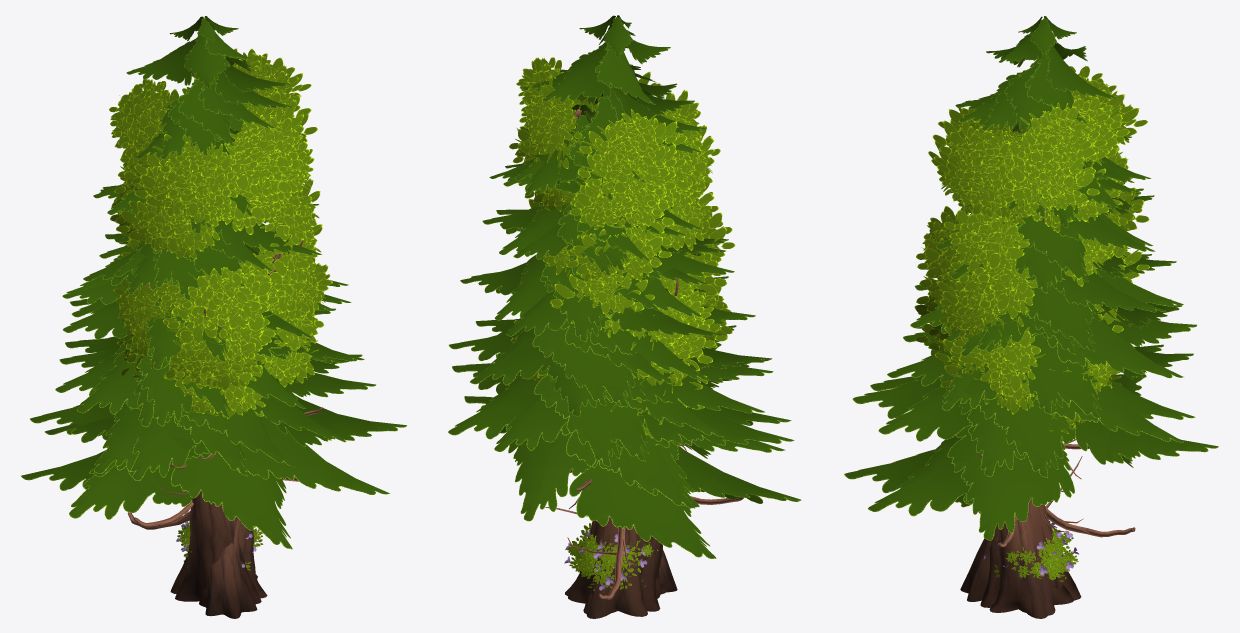
File: trees.glb
The picture shows the model from 3 angles, left to right: view 1: azimuth 30°, elevation 25°; view 2: azimuth 150°, elevation 25°; view 3: azimuth 270°, elevation 25°; orthographic projection. The views are drawn at different scales.
Parts seen in each view (by area): view 1: Pine_5, Pine_4, CommonTree_3, CommonTree_4, CommonTree_5, Bush_Common_Flowers; view 2: Pine_4, Pine_5, CommonTree_3, CommonTree_4, CommonTree_5, Bush_Common_Flowers; view 3: Pine_4, Pine_5, CommonTree_4, CommonTree_3, CommonTree_5, Bush_Common_Flowers.
Part boxes in pixels (bbox=[...]): Pine_5: bbox=[21, 114, 407, 618]; Pine_4: bbox=[30, 16, 364, 529]; CommonTree_3: bbox=[109, 48, 332, 594]; CommonTree_4: bbox=[120, 48, 320, 607]; CommonTree_5: bbox=[121, 232, 324, 598]; Bush_Common_Flowers: bbox=[176, 520, 263, 570]; Pine_4: bbox=[448, 15, 794, 600]; Pine_5: bbox=[460, 104, 801, 598]; CommonTree_3: bbox=[510, 69, 735, 618]; CommonTree_4: bbox=[509, 57, 720, 612]; CommonTree_5: bbox=[540, 244, 727, 613]; Bush_Common_Flowers: bbox=[564, 523, 658, 595]; Pine_4: bbox=[870, 16, 1193, 595]; Pine_5: bbox=[844, 130, 1218, 601]; CommonTree_4: bbox=[928, 66, 1133, 612]; CommonTree_3: bbox=[914, 78, 1149, 615]; CommonTree_5: bbox=[915, 234, 1149, 618]; Bush_Common_Flowers: bbox=[983, 520, 1078, 581].
Size of the model in its own units: 6.4 by 10.2 by 6.2.
4 materials, 4 textured.
